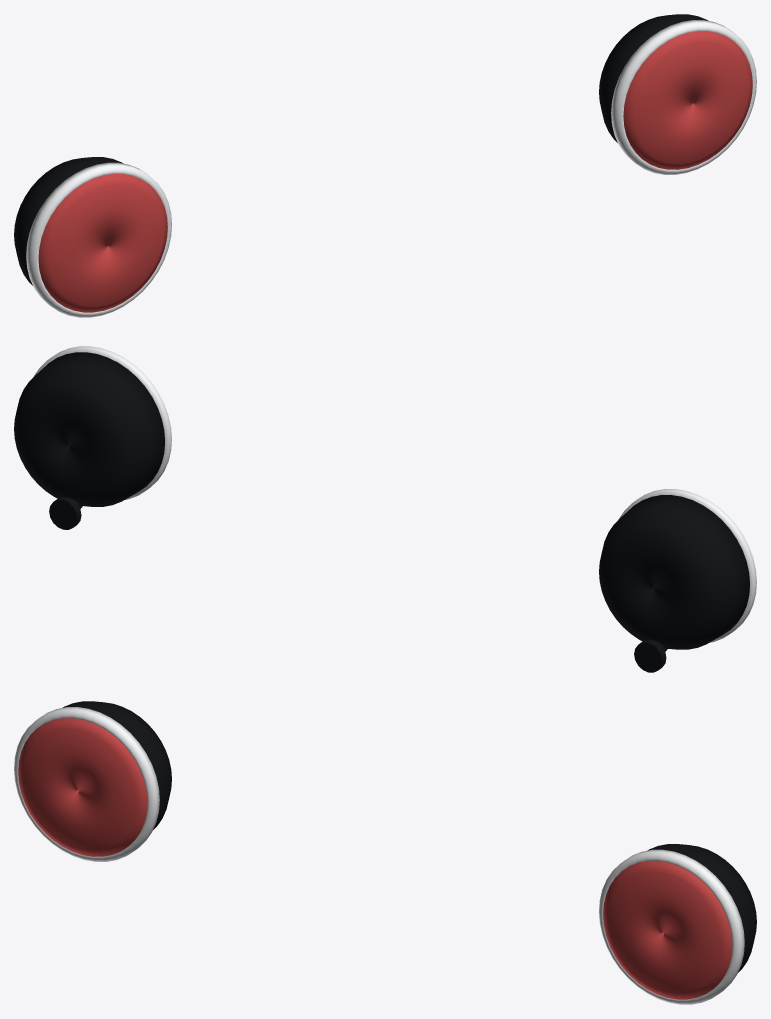
Rendered from DL02_rally_lamps_covered.glb.
The picture shows the model from 3 angles, top to bottom: view 1: azimuth 30°, elevation 25°; view 2: azimuth 150°, elevation 25°; view 3: azimuth 330°, elevation 25°; orthographic projection.
Parts seen in each view (by area): view 1: MOD_ND_DL02_cover_R, MOD_ND_DL02_cover_L, MOD_ND_DL02_bezel_L, MOD_ND_DL02_bezel_R, MOD_ND_DL02_housing_L, MOD_ND_DL02_housing_R; view 2: MOD_ND_DL02_housing_L, MOD_ND_DL02_housing_R, MOD_ND_DL02_bezel_L, MOD_ND_DL02_bezel_R, MOD_ND_DL02_foot_R, MOD_ND_DL02_foot_L; view 3: MOD_ND_DL02_cover_L, MOD_ND_DL02_cover_R, MOD_ND_DL02_bezel_R, MOD_ND_DL02_bezel_L, MOD_ND_DL02_housing_R, MOD_ND_DL02_housing_L.
Part boxes in pixels (box(x1,y1,x2,y2)): MOD_ND_DL02_cover_R: box(38, 174, 167, 312); MOD_ND_DL02_cover_L: box(623, 31, 752, 169); MOD_ND_DL02_bezel_L: box(611, 20, 756, 174); MOD_ND_DL02_bezel_R: box(26, 162, 171, 317); MOD_ND_DL02_housing_L: box(599, 14, 708, 142); MOD_ND_DL02_housing_R: box(14, 157, 123, 285); MOD_ND_DL02_housing_L: box(14, 352, 164, 506); MOD_ND_DL02_housing_R: box(599, 495, 749, 649); MOD_ND_DL02_bezel_L: box(33, 346, 171, 499); MOD_ND_DL02_bezel_R: box(618, 489, 756, 642); MOD_ND_DL02_foot_R: box(634, 639, 666, 672); MOD_ND_DL02_foot_L: box(49, 497, 81, 529); MOD_ND_DL02_cover_L: box(603, 861, 732, 999); MOD_ND_DL02_cover_R: box(18, 718, 147, 856); MOD_ND_DL02_bezel_R: box(14, 707, 159, 861); MOD_ND_DL02_bezel_L: box(599, 849, 744, 1004); MOD_ND_DL02_housing_R: box(62, 701, 171, 829); MOD_ND_DL02_housing_L: box(647, 844, 756, 972).
Size of the model in its own units: 0.82 by 0.166 by 0.0882.
